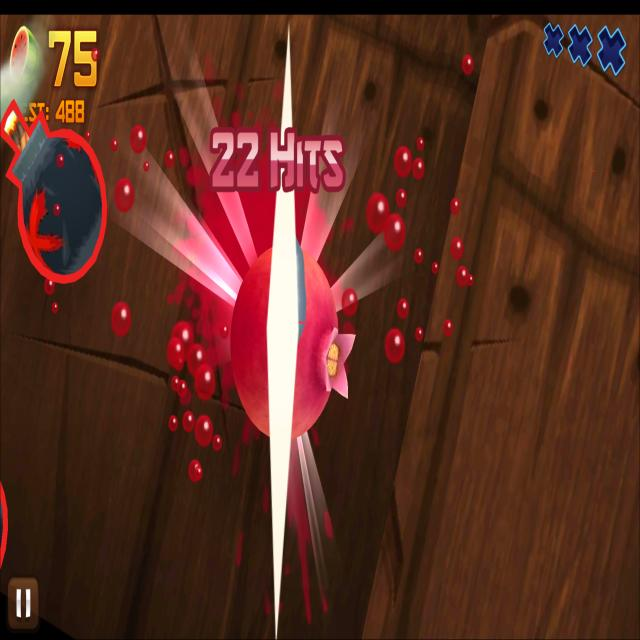bomb: (0, 100, 109, 284)
fruit: (232, 244, 356, 440)
